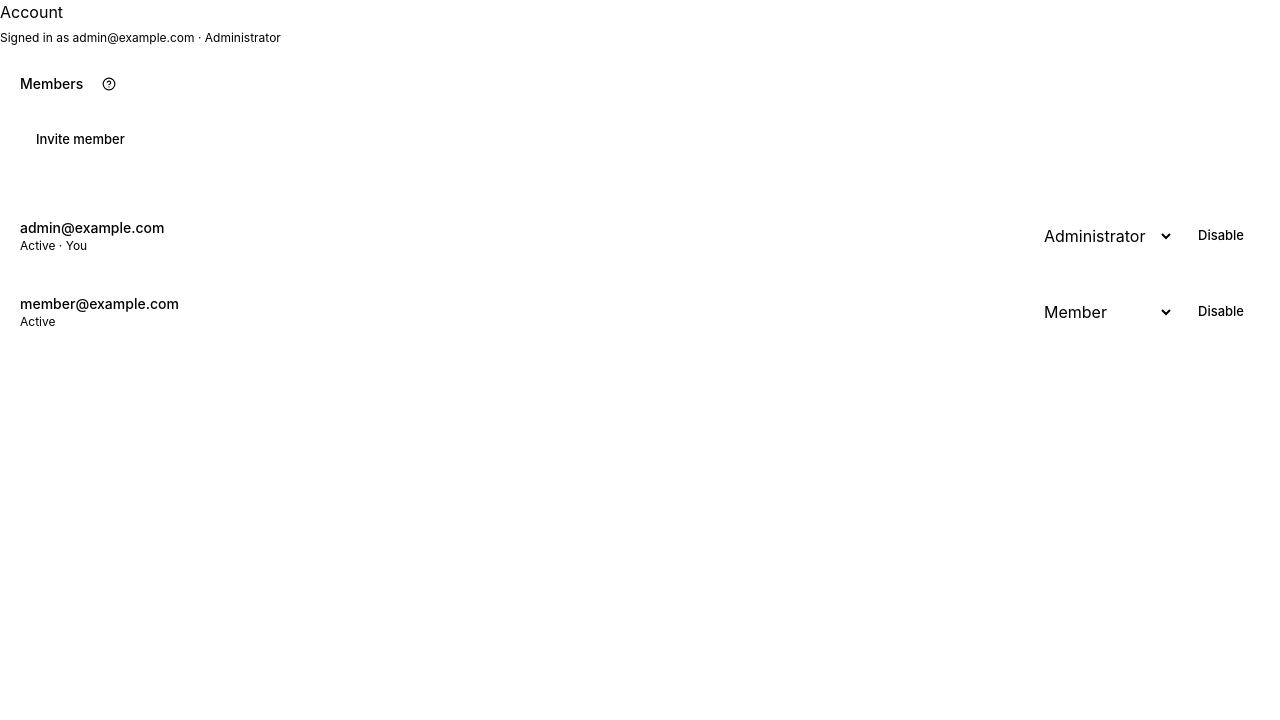
Scenario: disables a member after confirmation and reports API failures
expect the text "member@example.com" is shown: met, box [20, 294, 179, 314]
Click the button "Disable" in the row of "member@example.com".
click(1221, 312)  # box [1182, 290, 1260, 334]
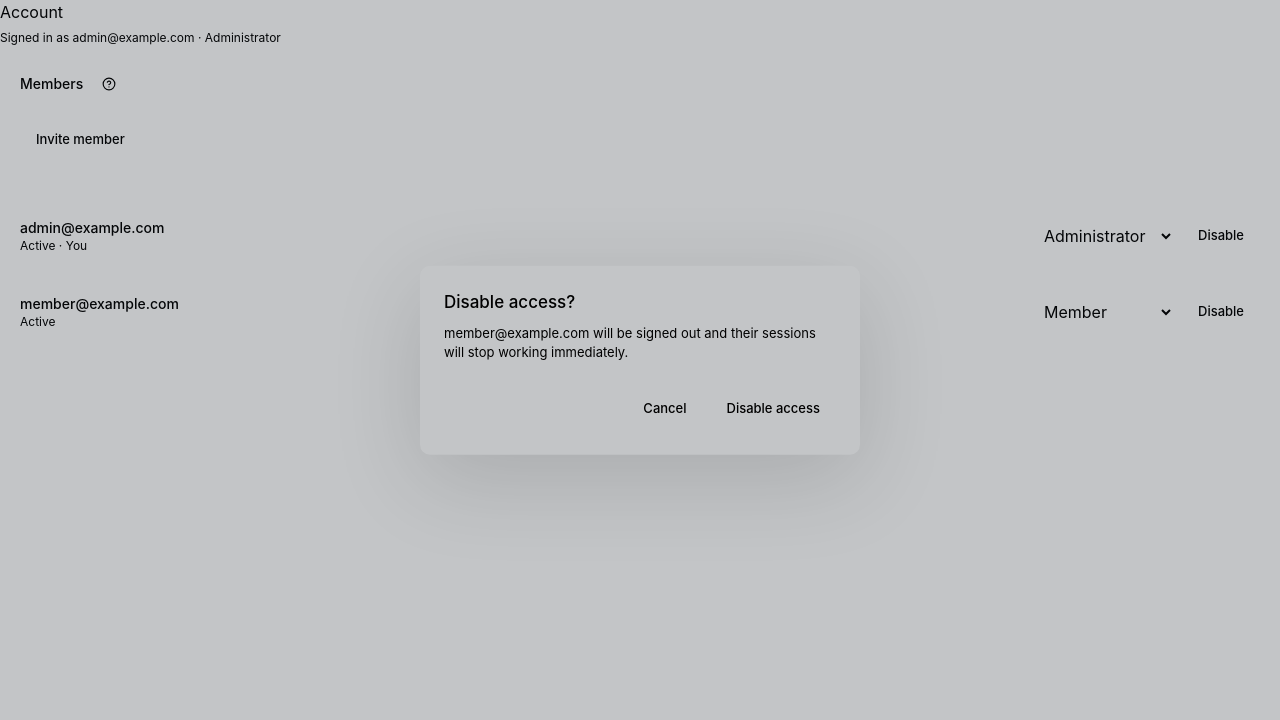
expect the dialog "Disable access?" shows "member@example.com": met, box [444, 324, 816, 360]
Click the button "Disable access".
click(773, 408)  # box [710, 386, 836, 430]
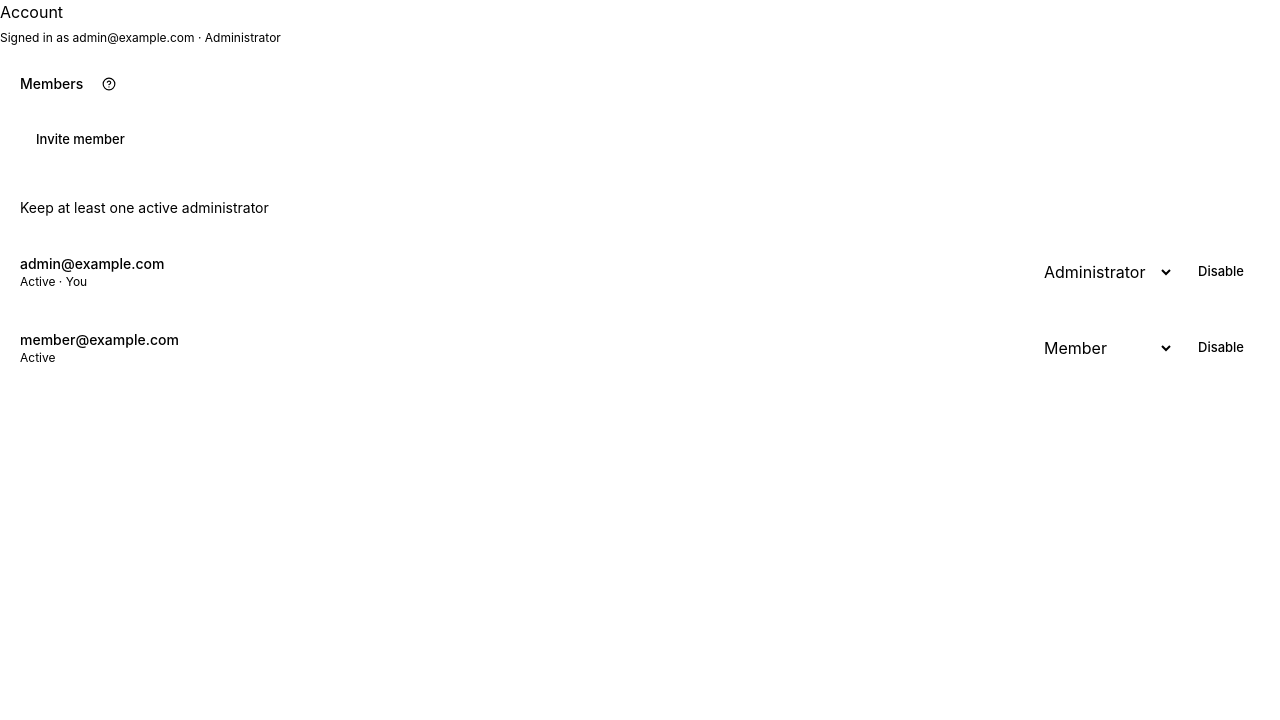
expect the message reads "Keep at least one active administrator": met, box [20, 199, 269, 216]
